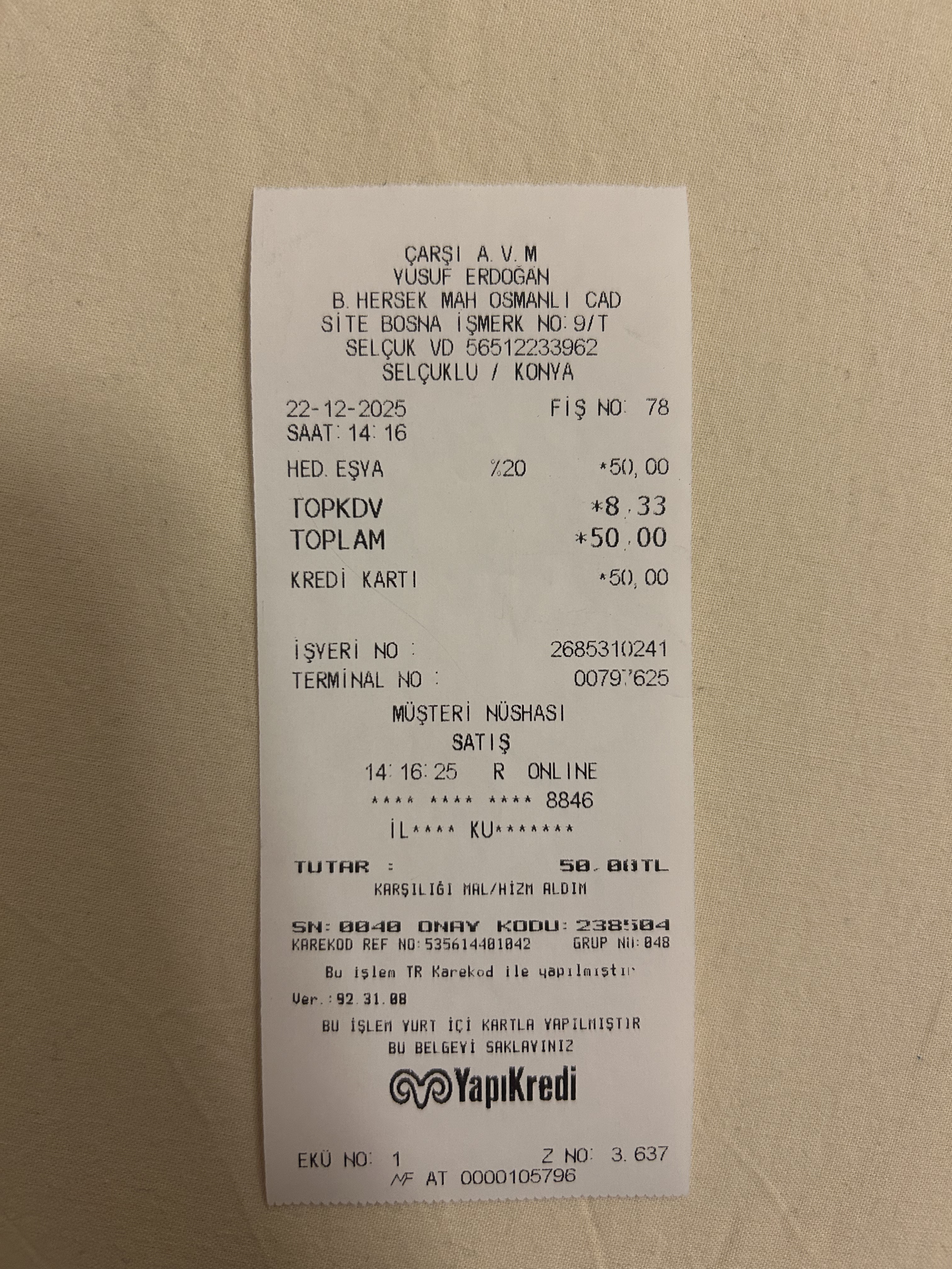date: (281, 391, 415, 422)
price: (550, 856, 674, 879)
workplace: (311, 234, 640, 388)
